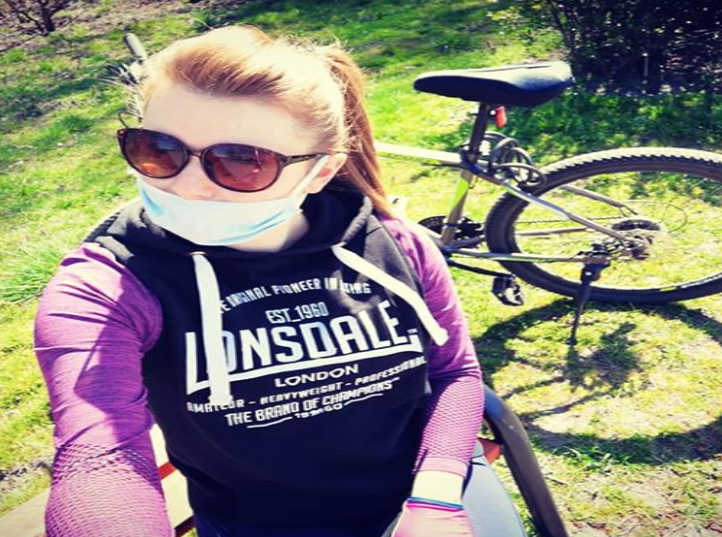mask_weared_incorrect: (110, 30, 359, 249)
